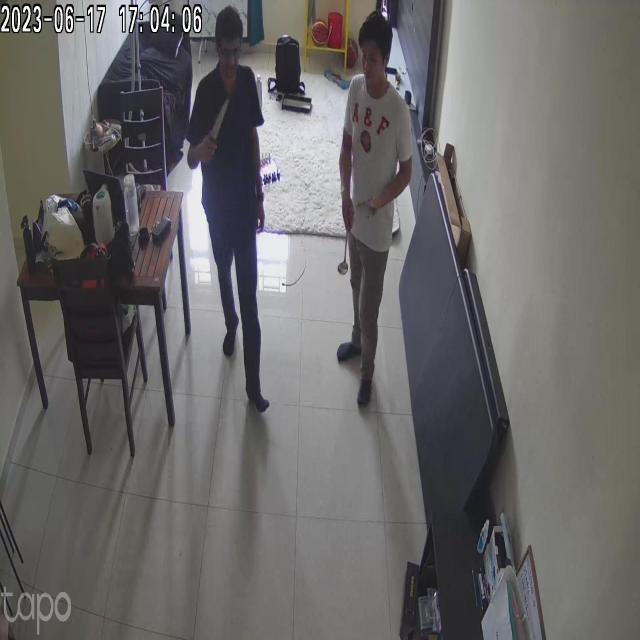Knife: (190, 104, 242, 158)
